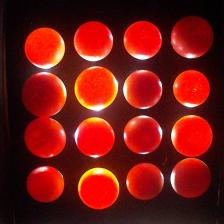fertile: (22, 72, 67, 117), (170, 15, 214, 59), (24, 118, 66, 158), (171, 157, 211, 198), (123, 115, 163, 155), (122, 70, 162, 109), (26, 165, 64, 203), (126, 162, 164, 200)
infertile: (75, 66, 119, 110), (78, 167, 120, 210), (171, 115, 213, 157), (25, 27, 66, 69), (74, 20, 114, 62), (75, 117, 115, 158), (124, 20, 162, 60), (173, 70, 210, 108)
